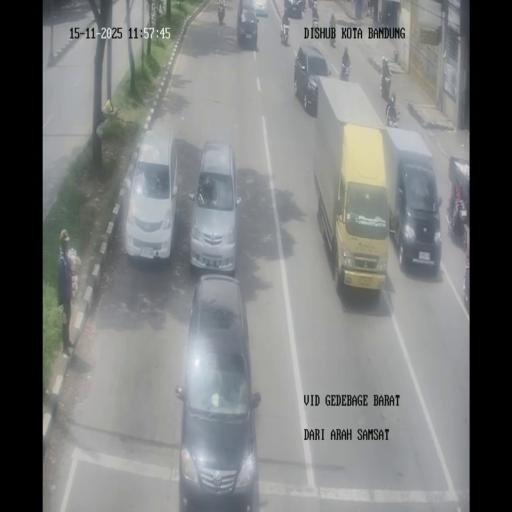3: (316, 98, 391, 294)
car: (174, 274, 260, 507), (125, 124, 178, 265), (189, 138, 241, 273), (390, 144, 442, 272), (294, 44, 332, 114), (236, 1, 259, 48), (253, 0, 268, 17)
truck: (452, 194, 466, 245), (380, 70, 392, 100), (386, 108, 399, 128), (280, 20, 289, 46), (340, 62, 350, 82), (311, 4, 319, 26), (218, 3, 225, 22), (330, 26, 336, 48), (296, 0, 306, 12), (364, 4, 372, 18), (378, 10, 383, 24), (307, 0, 314, 9)
